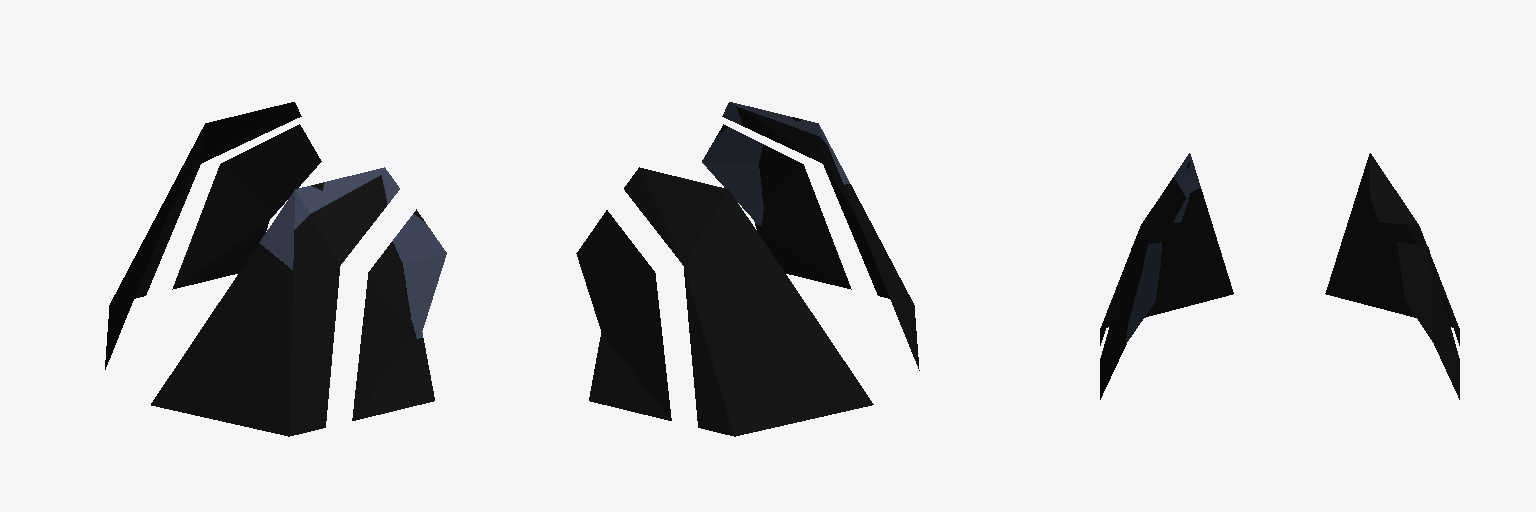
3 renders of one model, left to right at view 1: azimuth 30°, elevation 25°; view 2: azimuth 150°, elevation 25°; view 3: azimuth 270°, elevation 25°, orthographic.
Visible parts, largest first — view 1: baseOffShell_立方体.003; view 2: baseOffShell_立方体.003; view 3: baseOffShell_立方体.003.
Part boxes in pixels (bbox=[...]): baseOffShell_立方体.003: bbox=[105, 102, 446, 436]; baseOffShell_立方体.003: bbox=[576, 102, 919, 436]; baseOffShell_立方体.003: bbox=[1100, 153, 1459, 399].
Size of the model in its own units: 0.5336 by 0.4004 by 0.6459.
1 materials, 1 textured.